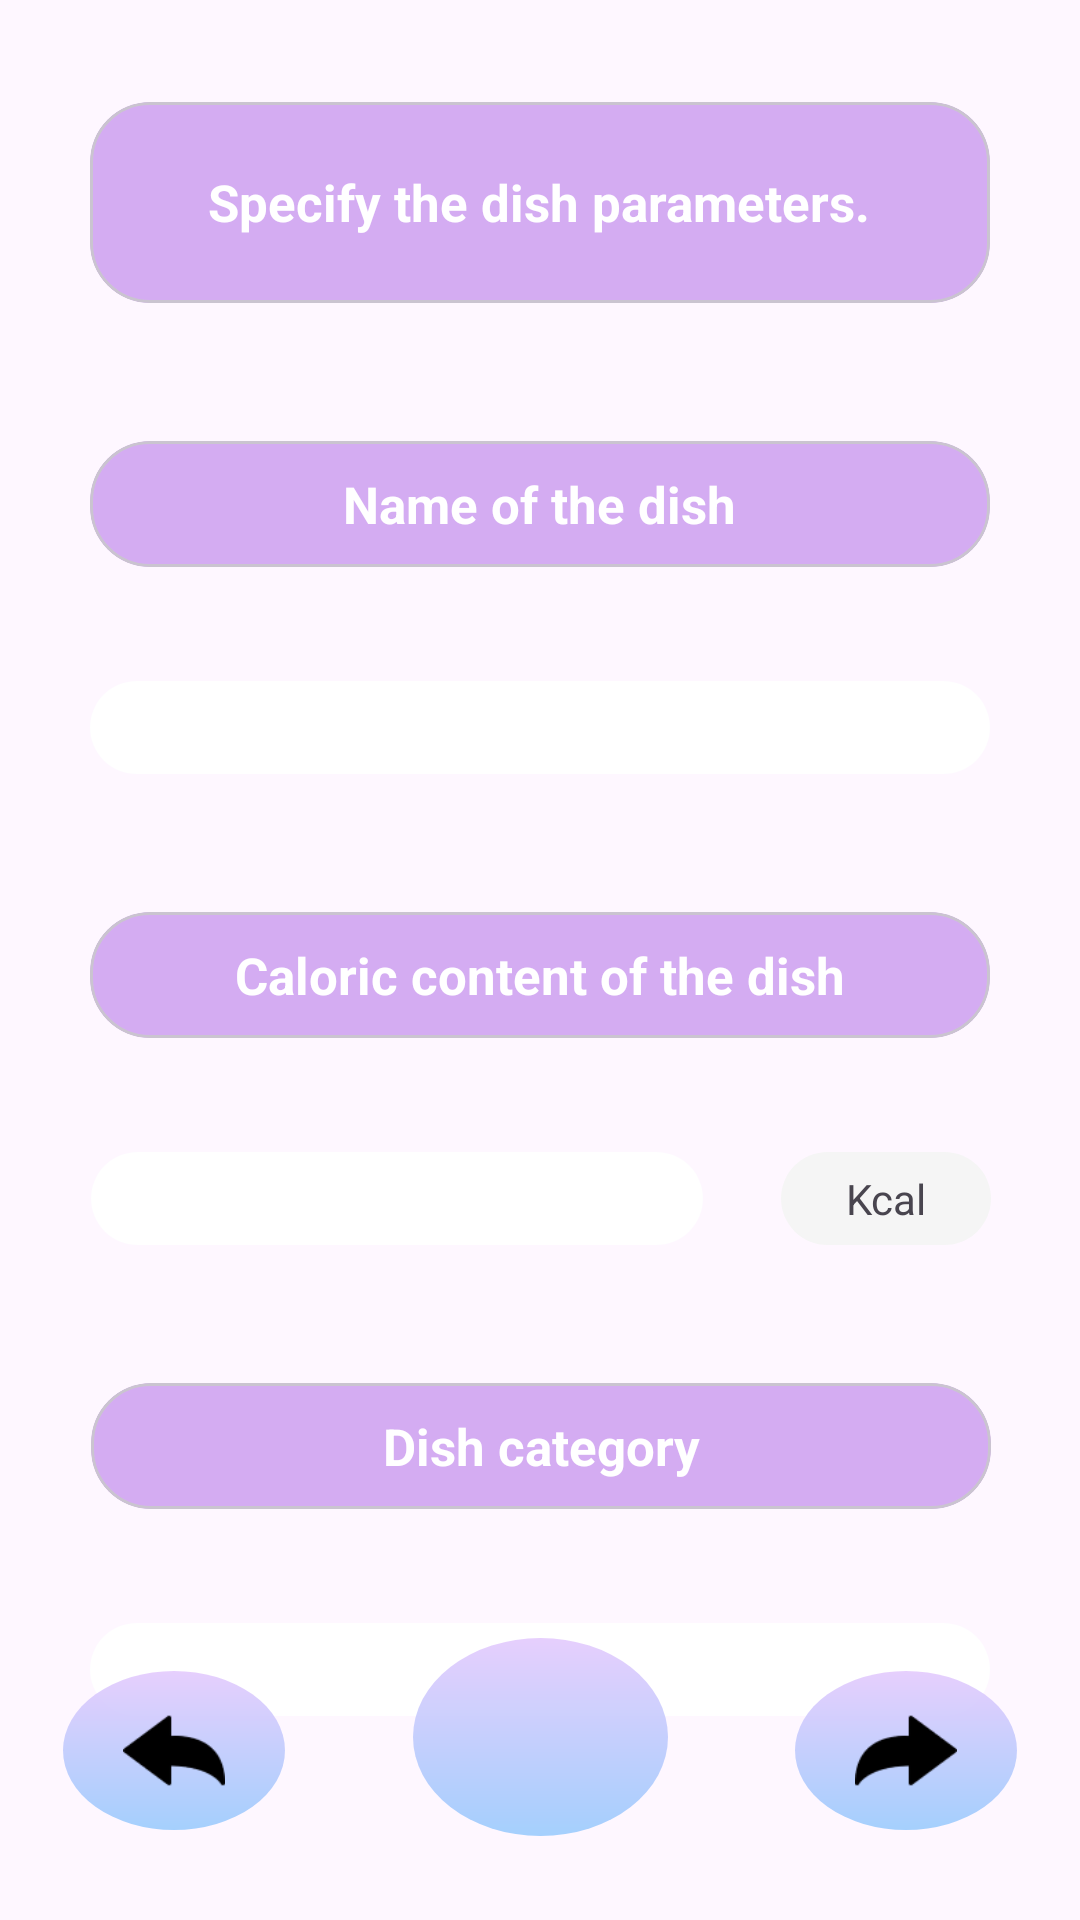

Screen size 1080px x 1920px. Icon name, then its box in pixels as (x1=x1, y1=y1, x2=x2, y2=y2):
turn left: (x1=63, y1=1671, x2=285, y2=1830)
turn right: (x1=795, y1=1671, x2=1017, y2=1830)
